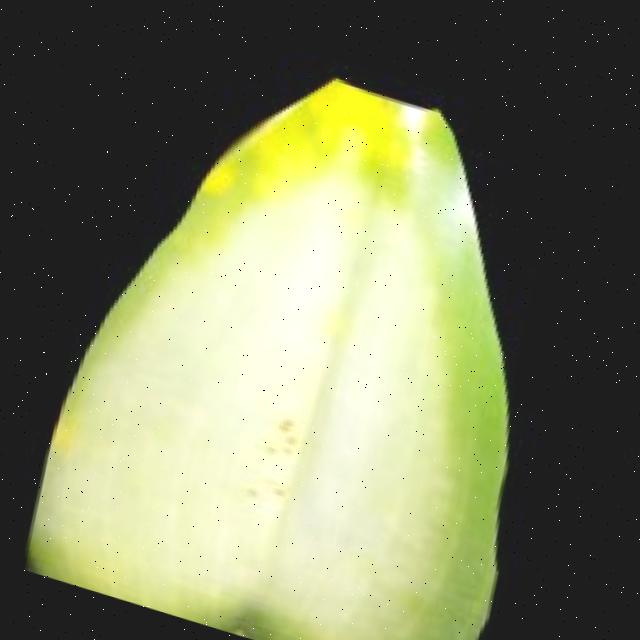mite: (30, 536, 394, 640), (28, 555, 321, 640), (156, 584, 352, 640), (191, 597, 287, 640), (194, 610, 300, 640), (206, 610, 310, 640), (206, 613, 267, 640), (274, 408, 298, 434), (221, 620, 255, 638)
spots: (19, 9, 591, 640)
